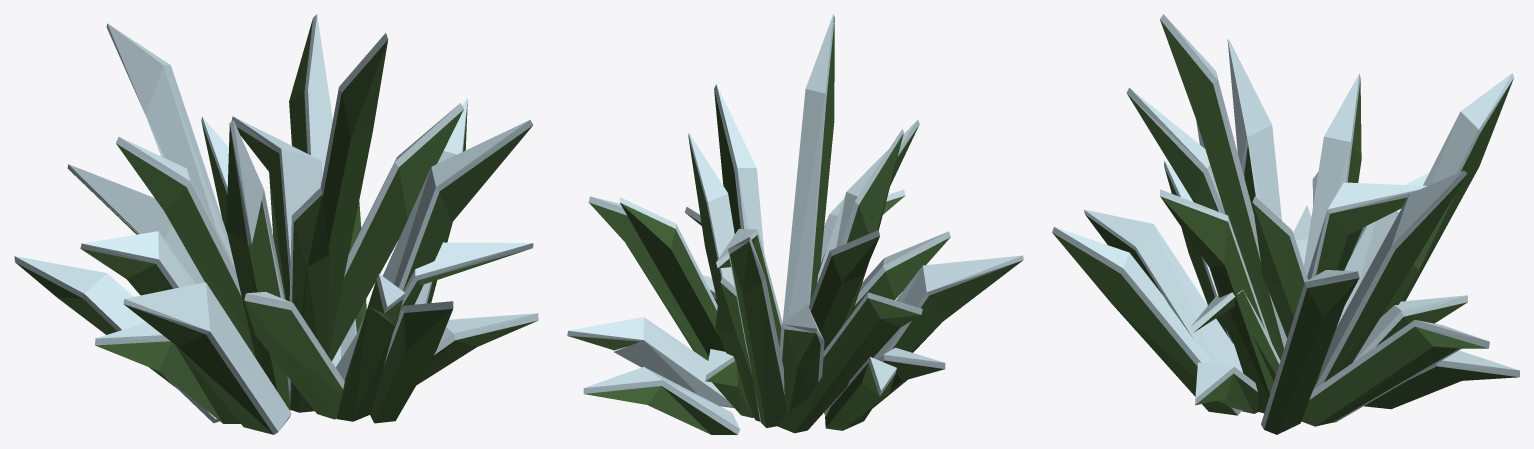
Rendered from SM_Env_Grass_Large_01_Snow.fbx.
The picture shows the model from 3 angles, left to right: view 1: azimuth 30°, elevation 25°; view 2: azimuth 150°, elevation 25°; view 3: azimuth 270°, elevation 25°; orthographic projection. The views are drawn at different scales.
Visible parts, largest first — view 1: SM_Env_Grass_Large_01_Snow; view 2: SM_Env_Grass_Large_01_Snow; view 3: SM_Env_Grass_Large_01_Snow.
Boxes of the visible parts, bbox=[...] form: SM_Env_Grass_Large_01_Snow: bbox=[14, 14, 538, 434]; SM_Env_Grass_Large_01_Snow: bbox=[567, 14, 1023, 434]; SM_Env_Grass_Large_01_Snow: bbox=[1052, 14, 1519, 434].
Bounding box in the file's own units: 177 × 162 × 179.
